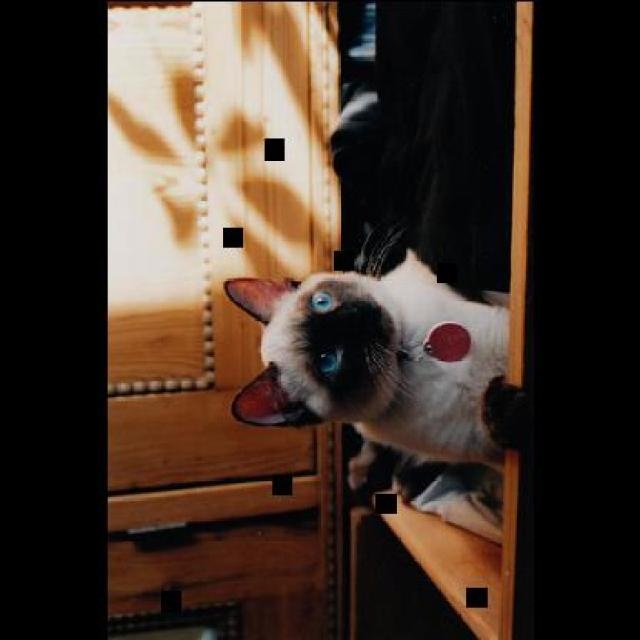unauthorized: (223, 228, 519, 543)
